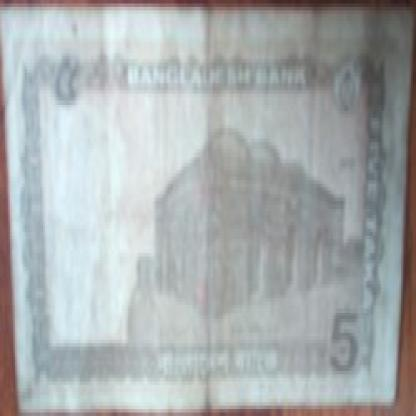Five Taka: (42, 45, 88, 125), (328, 305, 359, 385)
